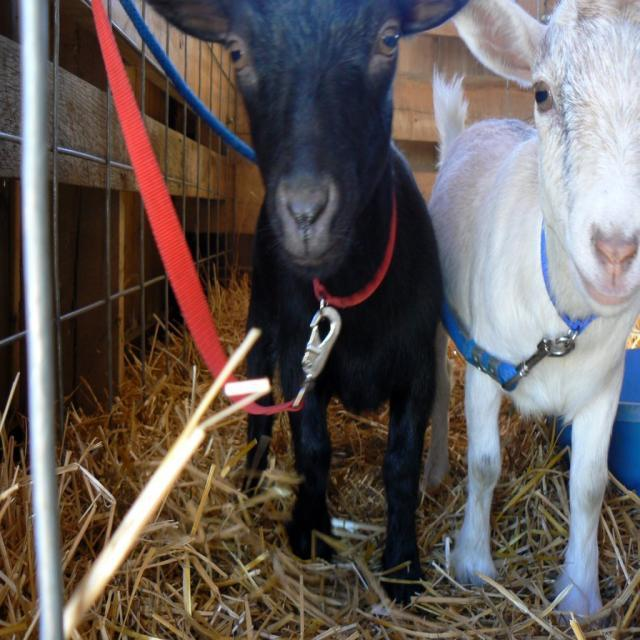Goat: (143, 0, 468, 608), (425, 0, 639, 629)
